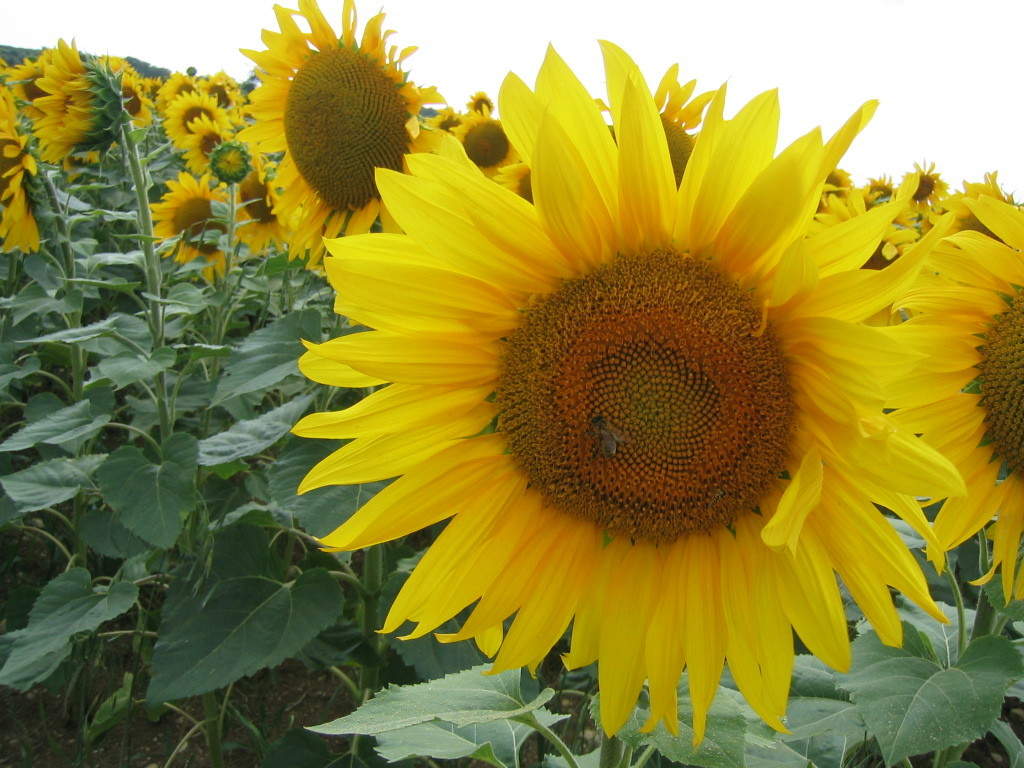person: (458, 116, 532, 197)
